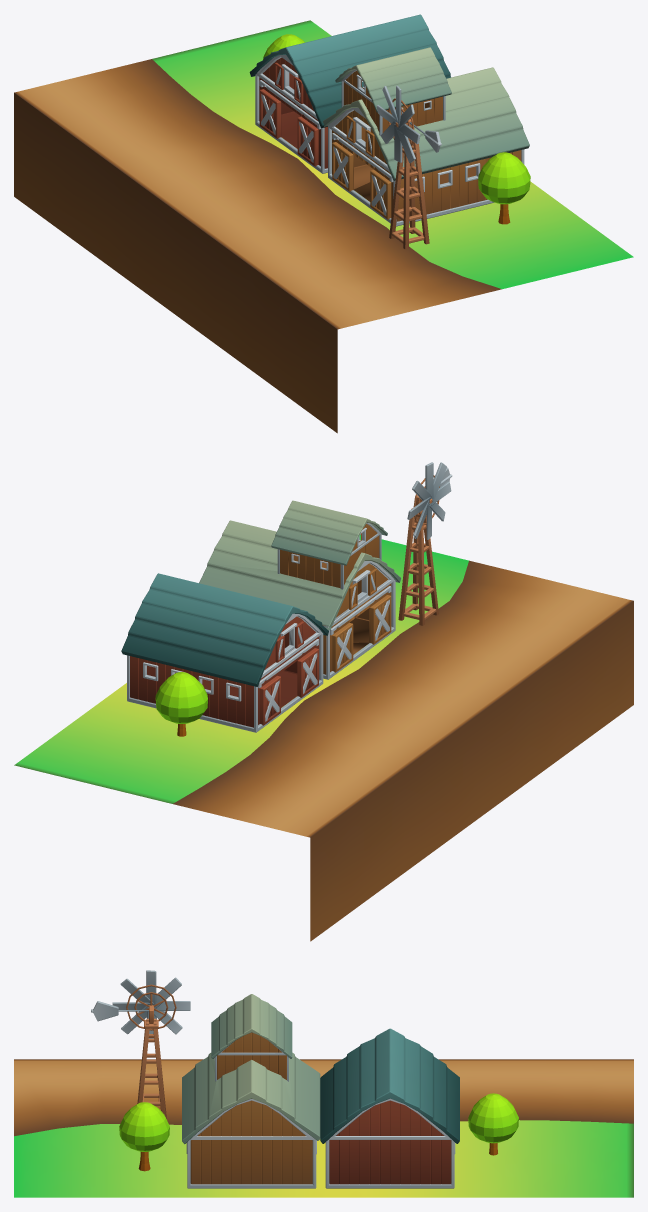
Rendered from Map.fbx.
3 views of the same model, one above another, from view 1: azimuth 30°, elevation 25°; view 2: azimuth 150°, elevation 25°; view 3: azimuth 270°, elevation 25° (orthographic). The views are drawn at different scales.
Visible parts, largest first — view 1: BG; view 2: BG; view 3: BG.
Part boxes in pixels (x1,y1,x2,y2): BG: (14,14,633,433); BG: (14,462,633,941); BG: (14,970,633,1197).
Bounding box in the file's own units: 2465 × 2074 × 4660.
